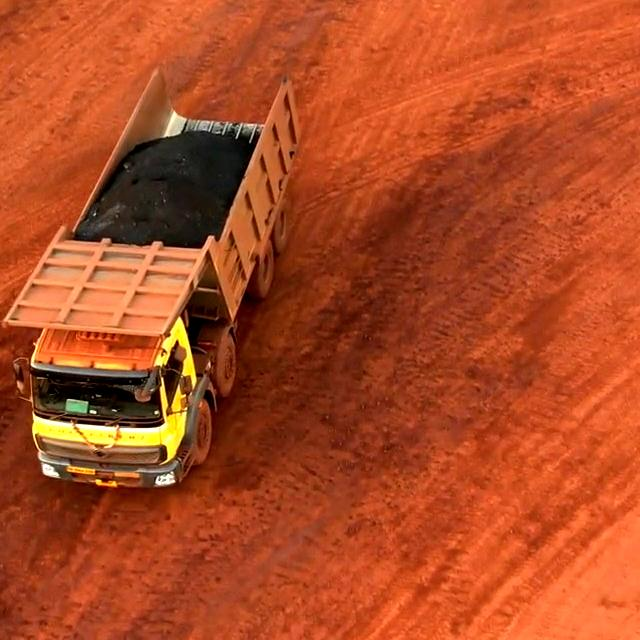Dumper truck: (12, 252, 212, 496)
